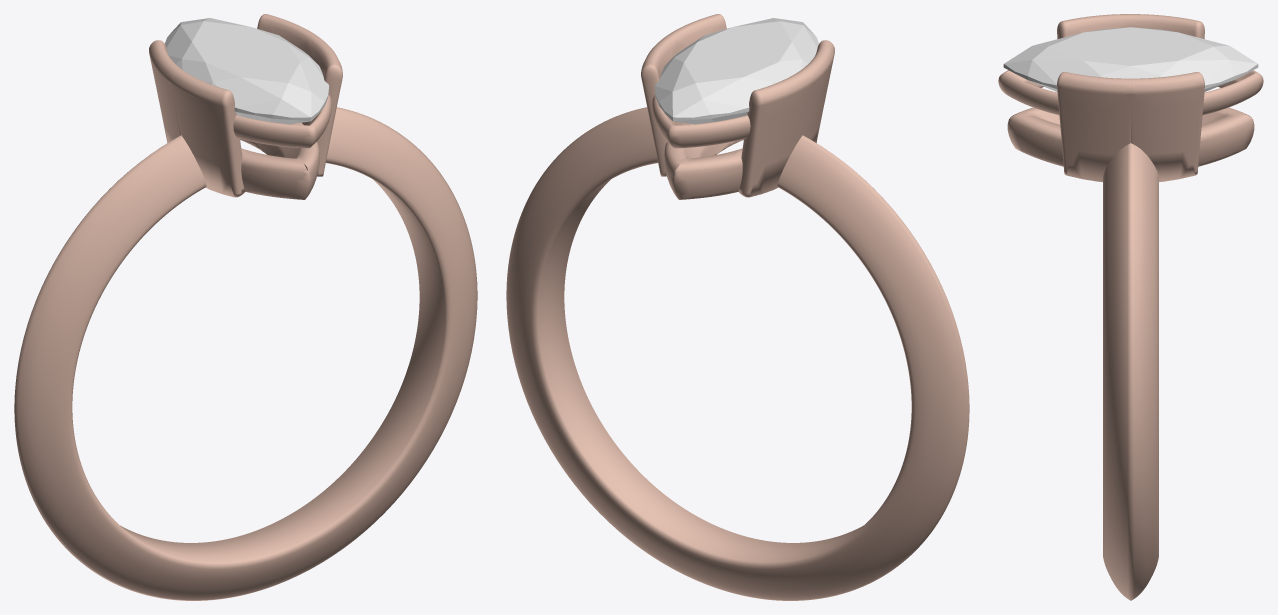
Rendered from diamond-marquise-rosegold-halfmoonbezel-knifeedge-nosidestones.glb.
3 renders of one model, left to right at view 1: azimuth 30°, elevation 25°; view 2: azimuth 150°, elevation 25°; view 3: azimuth 270°, elevation 25°, orthographic. The views are drawn at different scales.
Parts seen in each view (by area): view 1: metal.006, stone; view 2: metal.006, stone; view 3: metal.006, stone.
Boxes of the visible parts, x1,y1,x2,y2 form: metal.006: [14, 14, 477, 600]; stone: [165, 18, 329, 124]; metal.006: [506, 14, 969, 600]; stone: [655, 18, 818, 124]; metal.006: [998, 14, 1263, 600]; stone: [1003, 27, 1258, 91].
Bounding box in the file's own units: 20.49 × 22.93 × 10.4.
